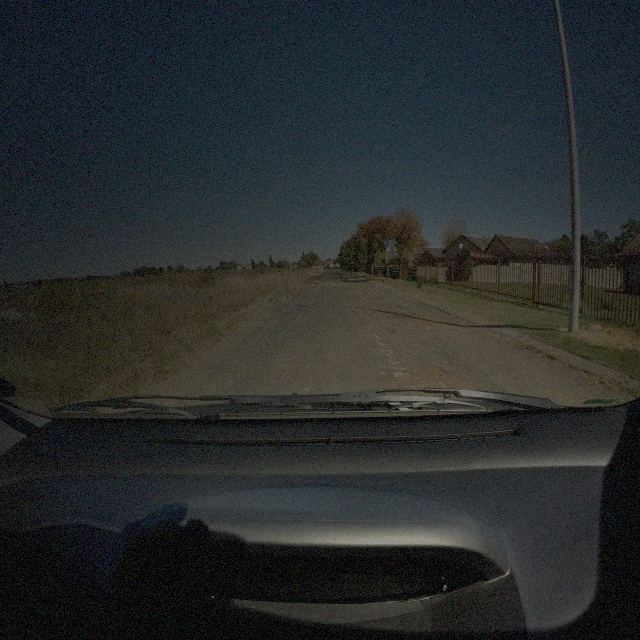pothole: (422, 363, 451, 385), (373, 328, 398, 337)
